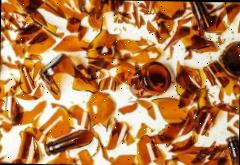glass: (39, 51, 93, 101), (84, 13, 120, 74), (127, 56, 173, 102), (42, 130, 94, 158)
